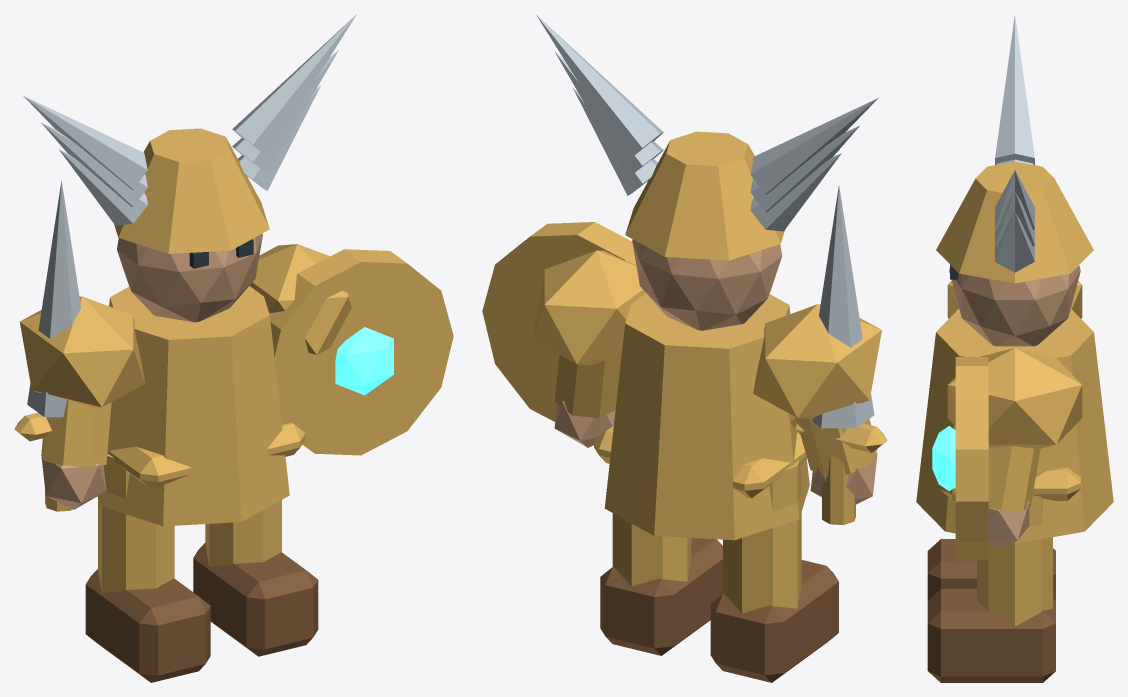
Rendered from valkyrie.glb.
The picture shows the model from 3 angles, left to right: view 1: azimuth 30°, elevation 25°; view 2: azimuth 150°, elevation 25°; view 3: azimuth 270°, elevation 25°; orthographic projection. The views are drawn at different scales.
Parts seen in each view (by area): view 1: valkyrie; view 2: valkyrie; view 3: valkyrie.
Part boxes in pixels (x1,y1,x2,y2): valkyrie: (14,14,453,682); valkyrie: (482,15,887,682); valkyrie: (916,15,1113,682).
Size of the model in its own units: 1.36 by 1.86 by 0.6.
